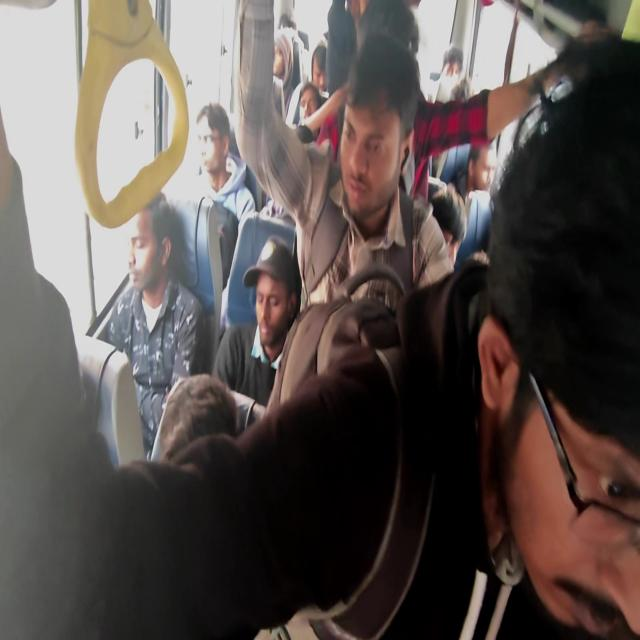person: (489, 133, 640, 640), (344, 47, 421, 222), (15, 382, 114, 502), (154, 379, 252, 486), (237, 245, 289, 385), (116, 210, 178, 307), (184, 88, 228, 182), (298, 94, 339, 165), (432, 188, 461, 272), (264, 25, 300, 85), (462, 137, 494, 194), (306, 50, 338, 99), (442, 47, 471, 95)
